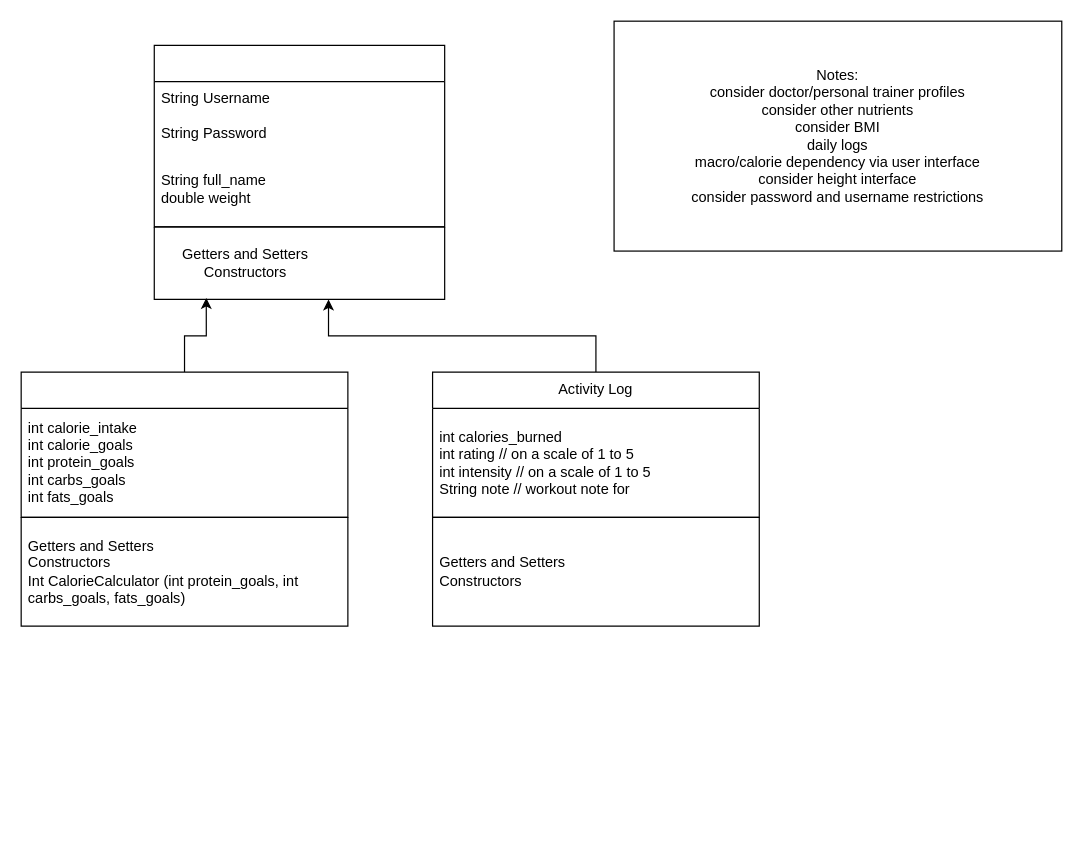
The diagram is 1083 pixels wide and 865 high, and some of its shapes have lost their labels. The shapes that lost their labels are listed below. From the top down, each one's box as (x1, y1, x2, y2) in pixels, then its label:
(153, 44, 445, 227): Profiles
(20, 371, 348, 517): Food Log
